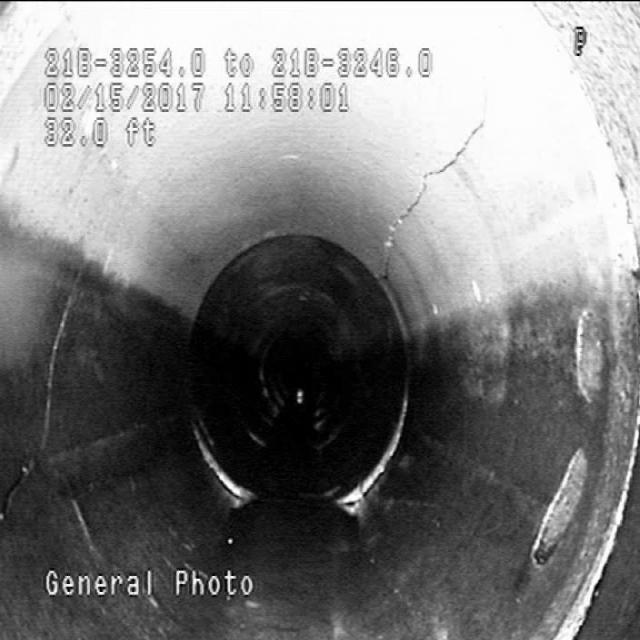Fracture: (384, 100, 493, 284)
